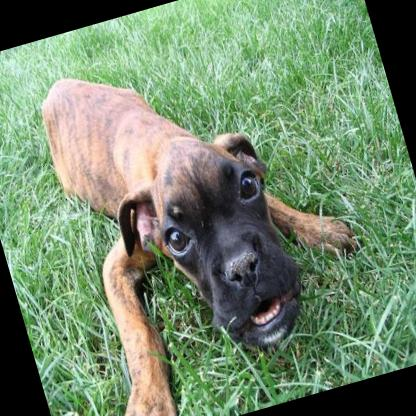boxer: (15, 8, 400, 416)
